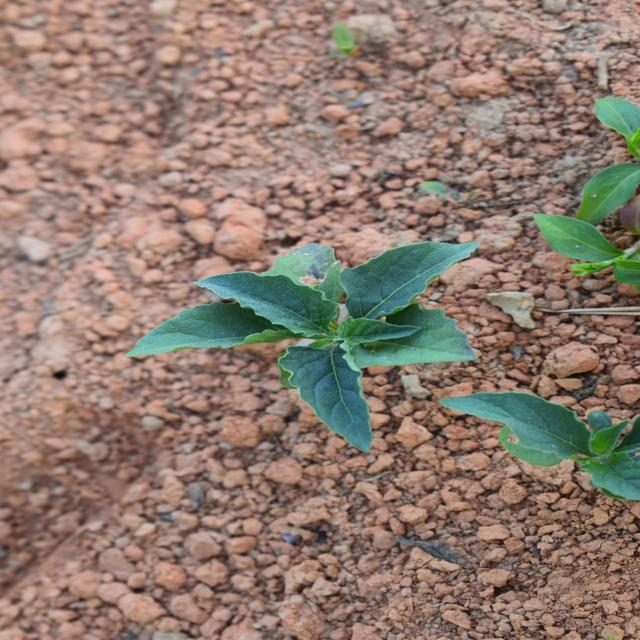Black_nightshade: (200, 156, 391, 490)
